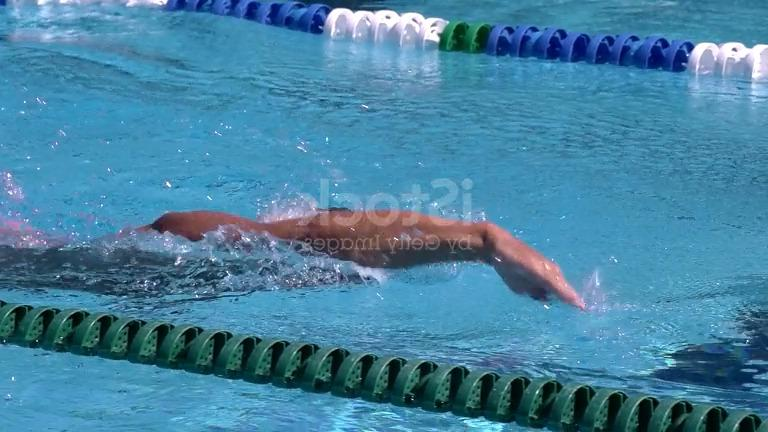Swimming: (6, 203, 594, 314)
